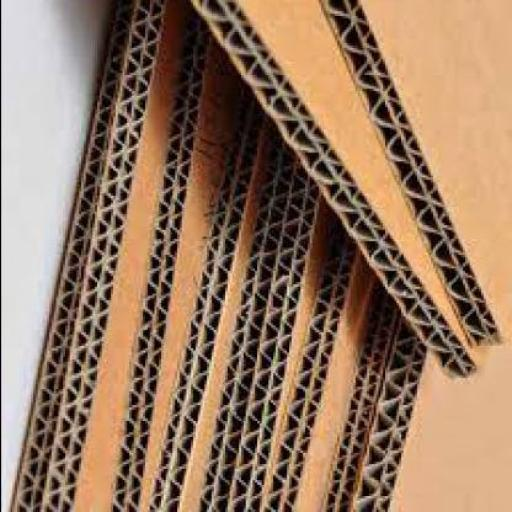cardboard: (192, 2, 487, 382), (12, 2, 187, 511), (107, 16, 250, 511), (318, 2, 510, 350), (145, 78, 271, 510), (198, 118, 298, 511), (232, 170, 338, 511), (354, 301, 510, 512), (264, 231, 380, 511), (318, 293, 398, 511)
